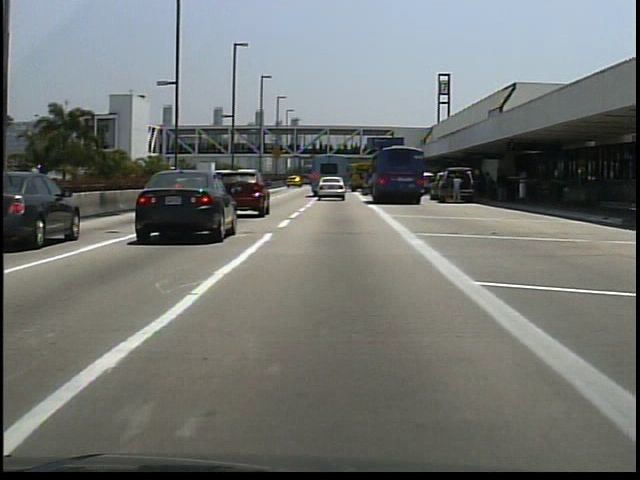person: (494, 168, 510, 207), (450, 174, 464, 207)
